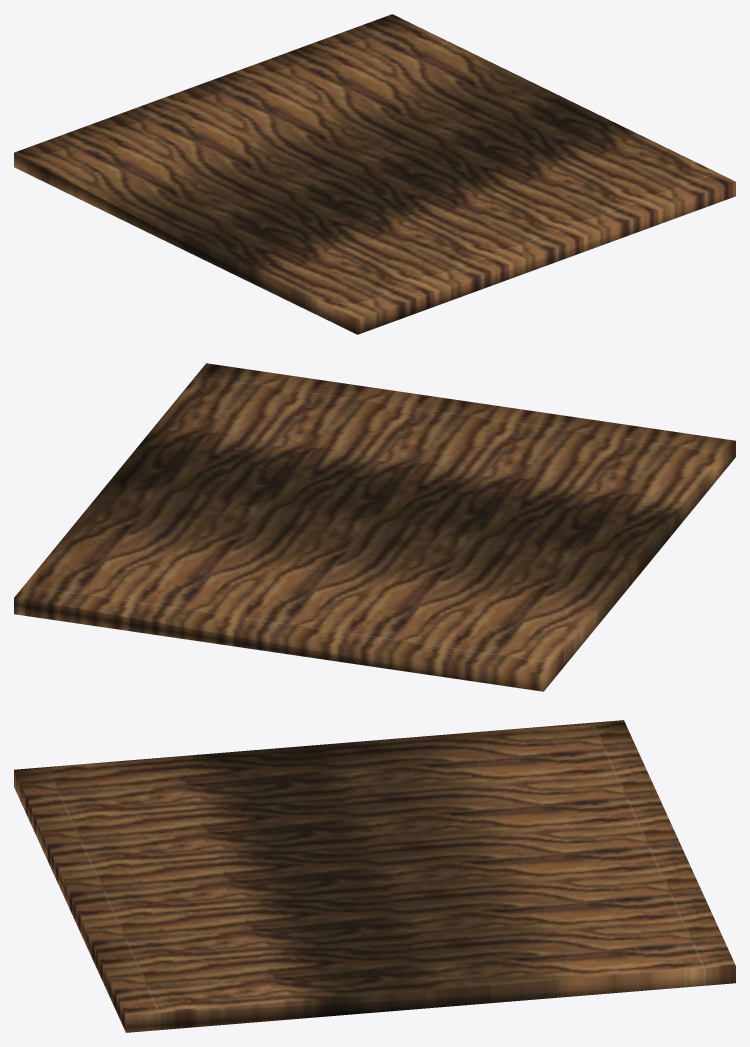
The model's file is SWORDLIGHT20_MAINCAVPLAT01CONV02.fbx.
3 renders of one model, top to bottom at view 1: azimuth 30°, elevation 25°; view 2: azimuth 150°, elevation 25°; view 3: azimuth 270°, elevation 25°, orthographic. The views are drawn at different scales.
Parts seen in each view (by area): view 1: SWORDLIGHT20_MAINCAVPLAT01CONV02; view 2: SWORDLIGHT20_MAINCAVPLAT01CONV02; view 3: SWORDLIGHT20_MAINCAVPLAT01CONV02.
Part boxes in pixels (bbox=[...]): SWORDLIGHT20_MAINCAVPLAT01CONV02: bbox=[14, 14, 735, 334]; SWORDLIGHT20_MAINCAVPLAT01CONV02: bbox=[14, 363, 735, 691]; SWORDLIGHT20_MAINCAVPLAT01CONV02: bbox=[14, 720, 735, 1032].
Size of the model in its own units: 91793 by 2500 by 94770.
Materials: 1 (1 with a texture image).
